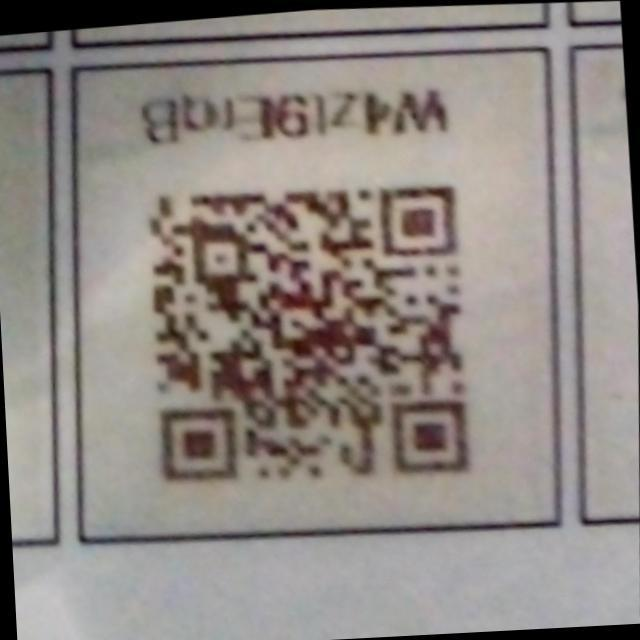QRCode: (115, 149, 500, 512)
